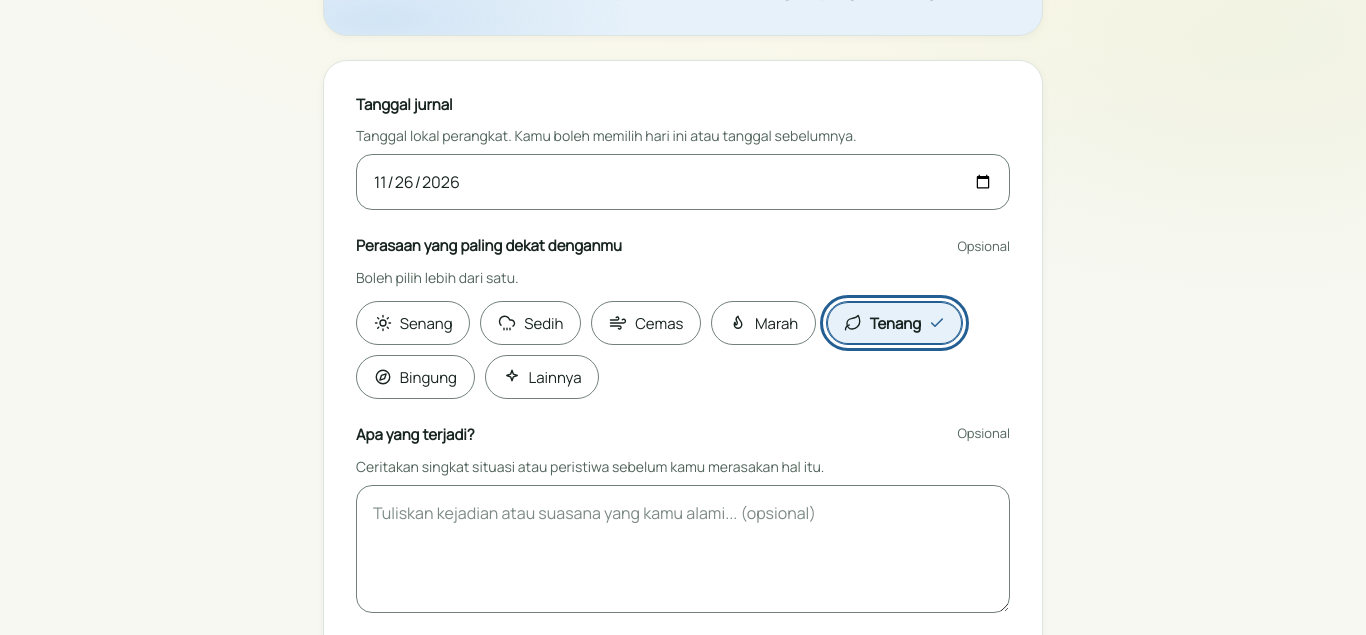
Test case: RUANGKISAH.ID integration flows › menyimpan Jurnal Perasaan setelah konfirmasi dan menyembunyikan isi di daftar Catatan Saya
The width and height of the screenshot is (1366, 635).
Earlier steps of the test are not shown.
(page scrolled)
Type "RAHASIA_PRIBADI_SISWA" into the text box labelled "Apa yang terjadi?".
click(683, 549); type("RAHASIA_PRIBADI_SISWA")  # box x1=356 y1=485 x2=1010 y2=613
(page scrolled)
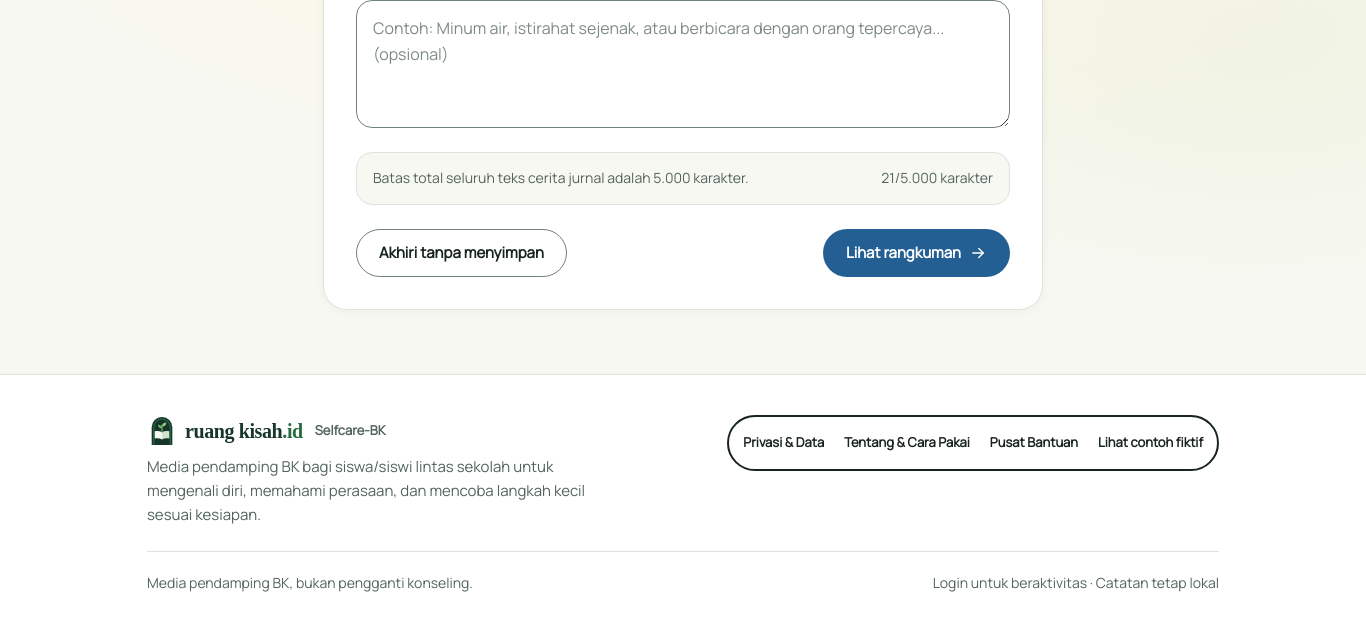
Click the button "Lihat rangkuman".
click(916, 253)  # box x1=823 y1=229 x2=1010 y2=277
(page scrolled)
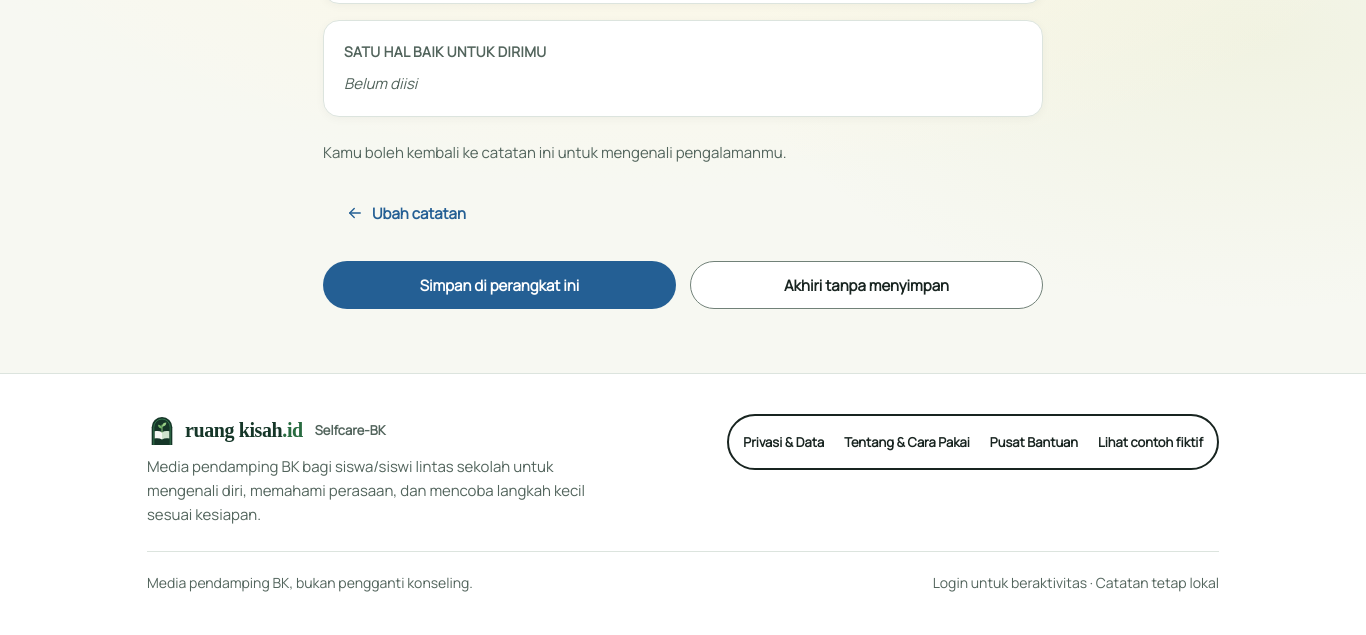
Click the button "Simpan di perangkat ini".
click(500, 285)  # box x1=323 y1=261 x2=676 y2=309
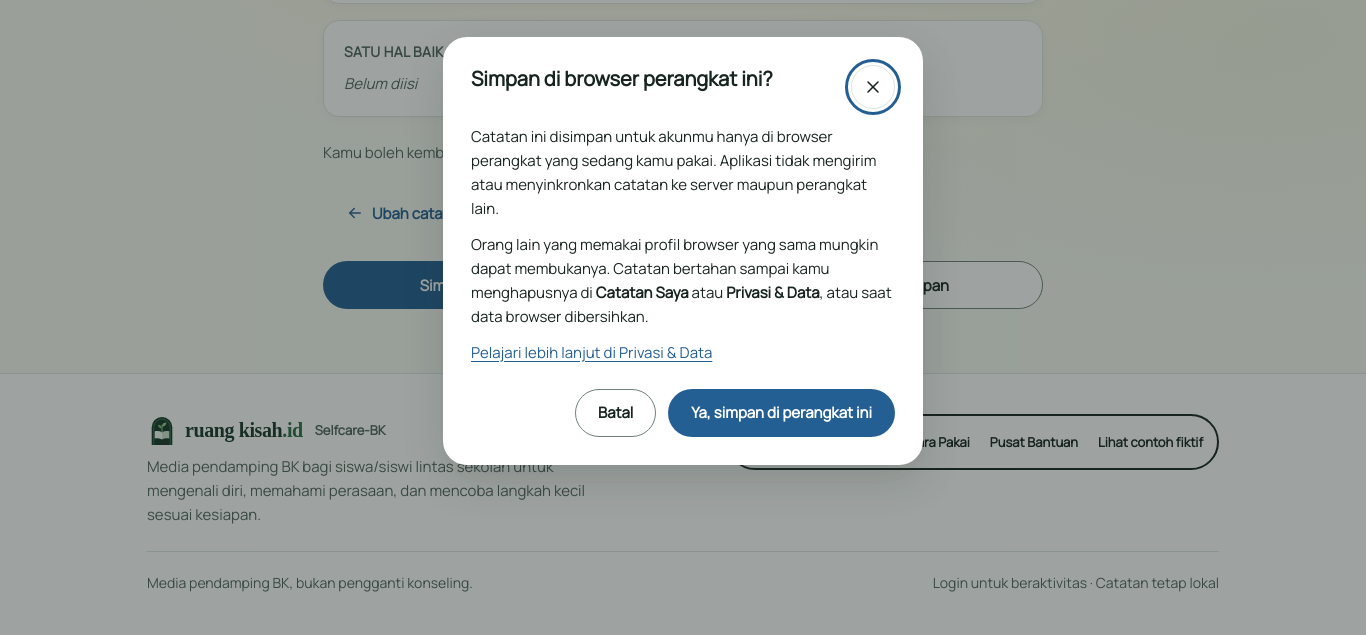
Click the button "Ya, simpan di perangkat ini".
click(782, 413)  # box x1=668 y1=389 x2=895 y2=437
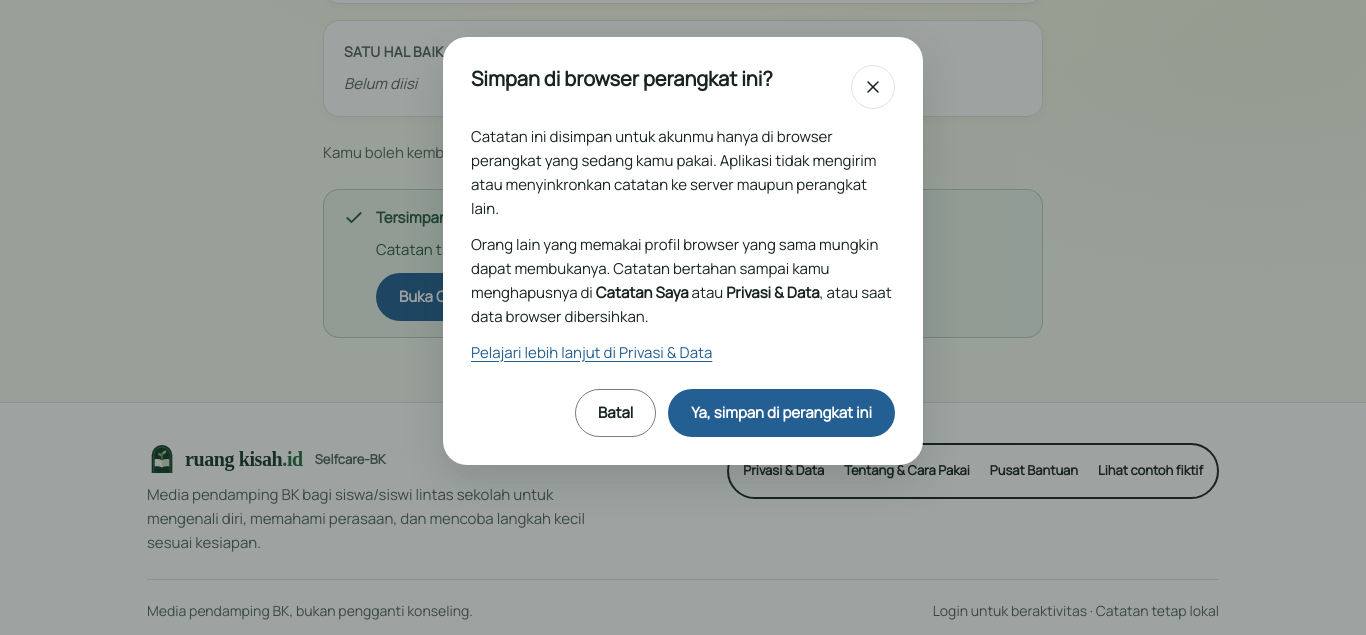
Result: the text "Tersimpan di browser perangkat ini" is shown at x1=376 y1=207 x2=615 y2=228
Click the link "Buka Catatan Saya".
click(464, 297)  # box x1=376 y1=273 x2=552 y2=321
(page scrolled)
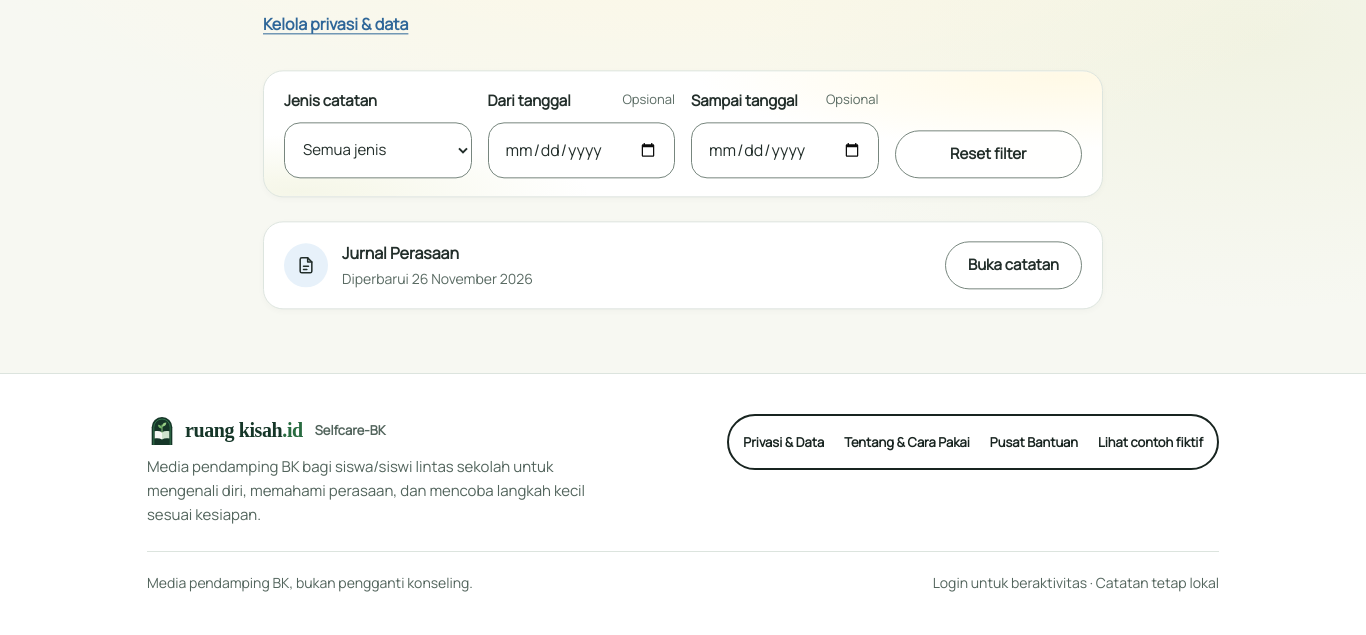
Result: the element "Jurnal Perasaan" is shown at x1=263 y1=221 x2=1103 y2=310
Click the button "Buka catatan".
click(1013, 265)  # box x1=945 y1=241 x2=1082 y2=289
(page scrolled)
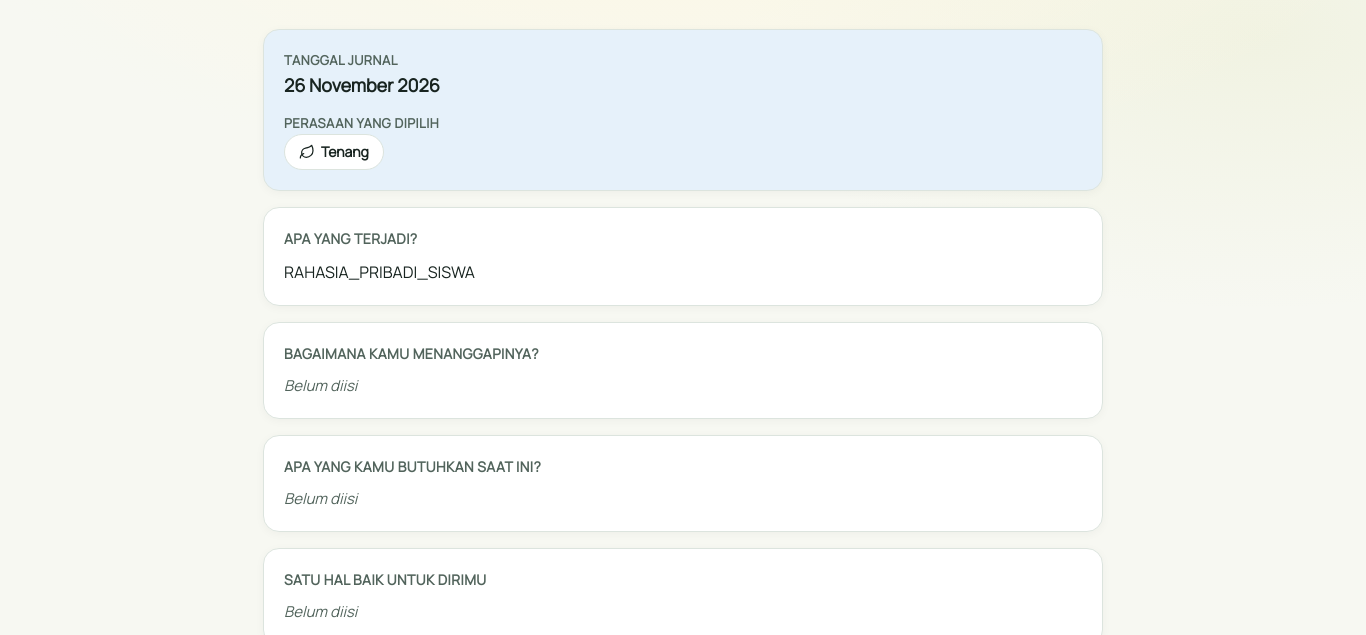
Result: the text "RAHASIA_PRIBADI_SISWA" is shown at x1=284 y1=261 x2=475 y2=283
